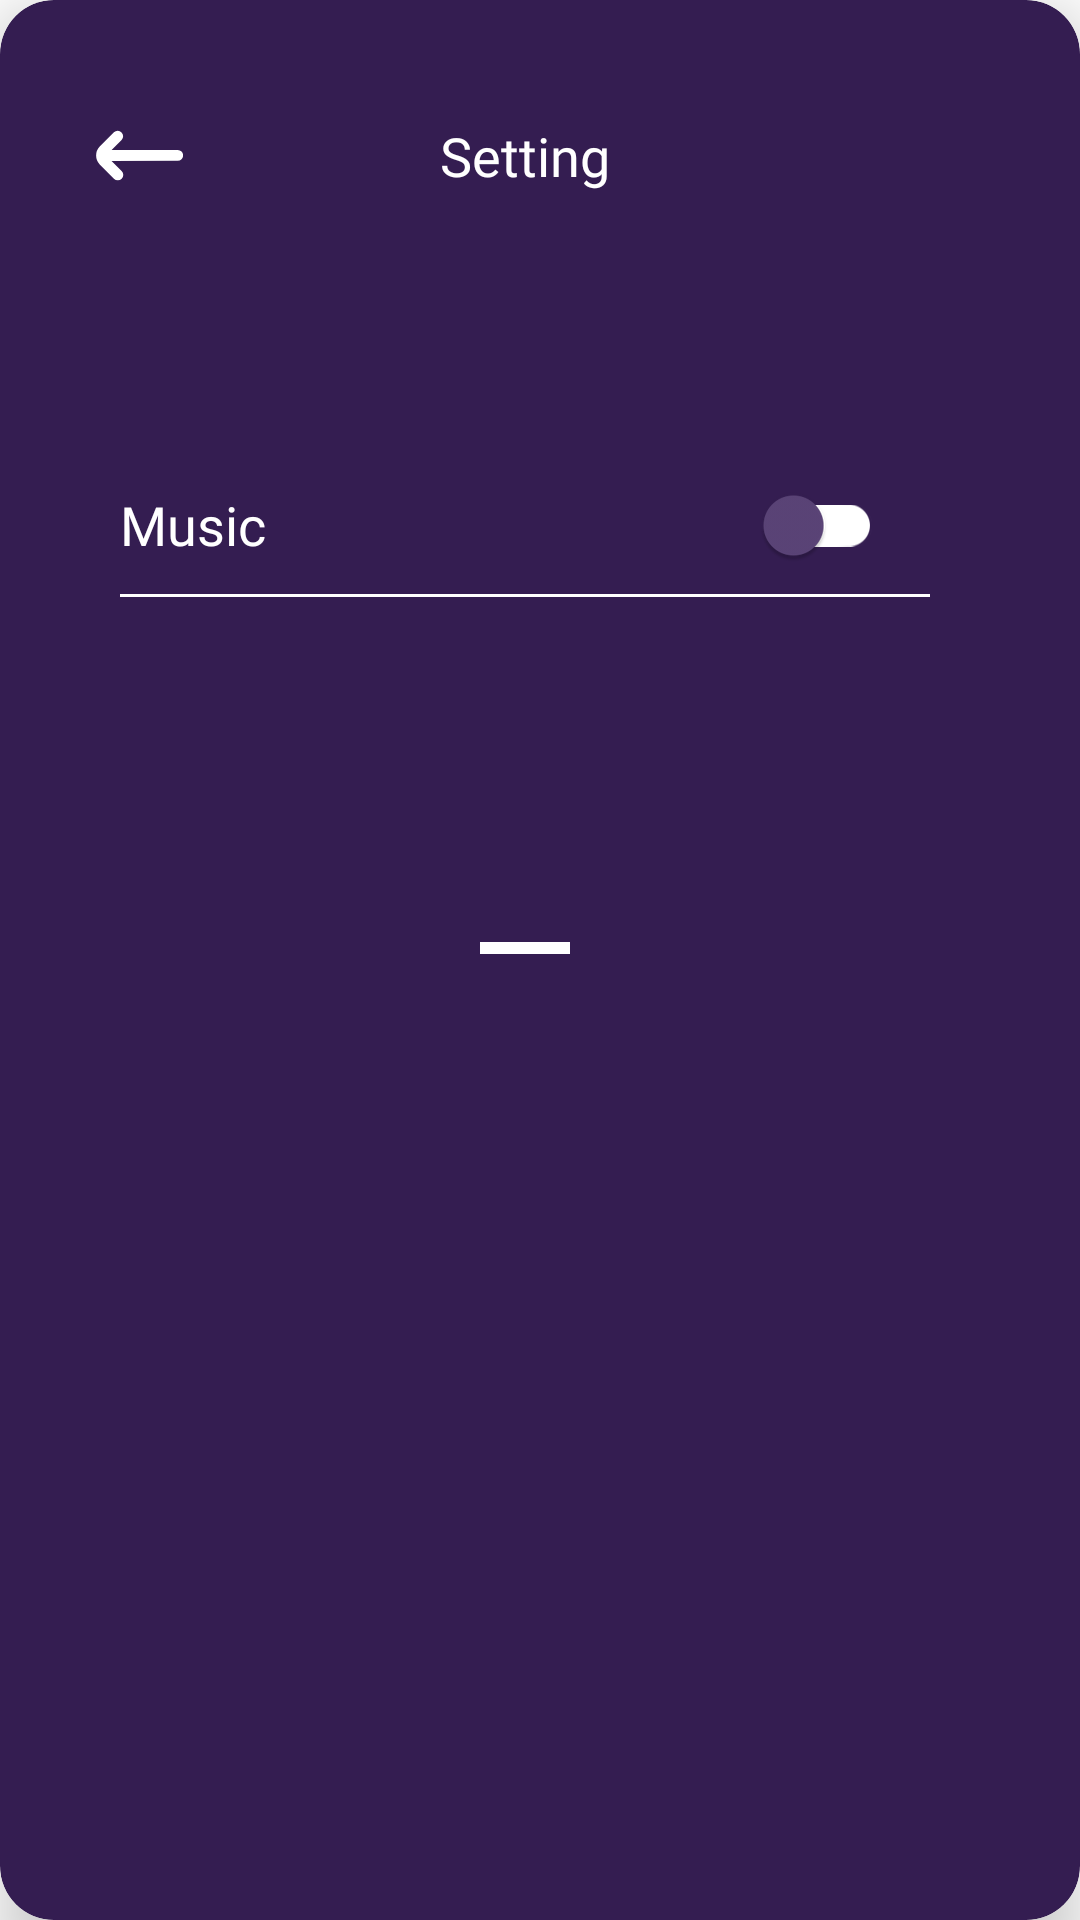

Icons on this 1080px×1920px Android screen, each with its box as (x1, y1, x2, y2):
back: (96, 130, 183, 181)
